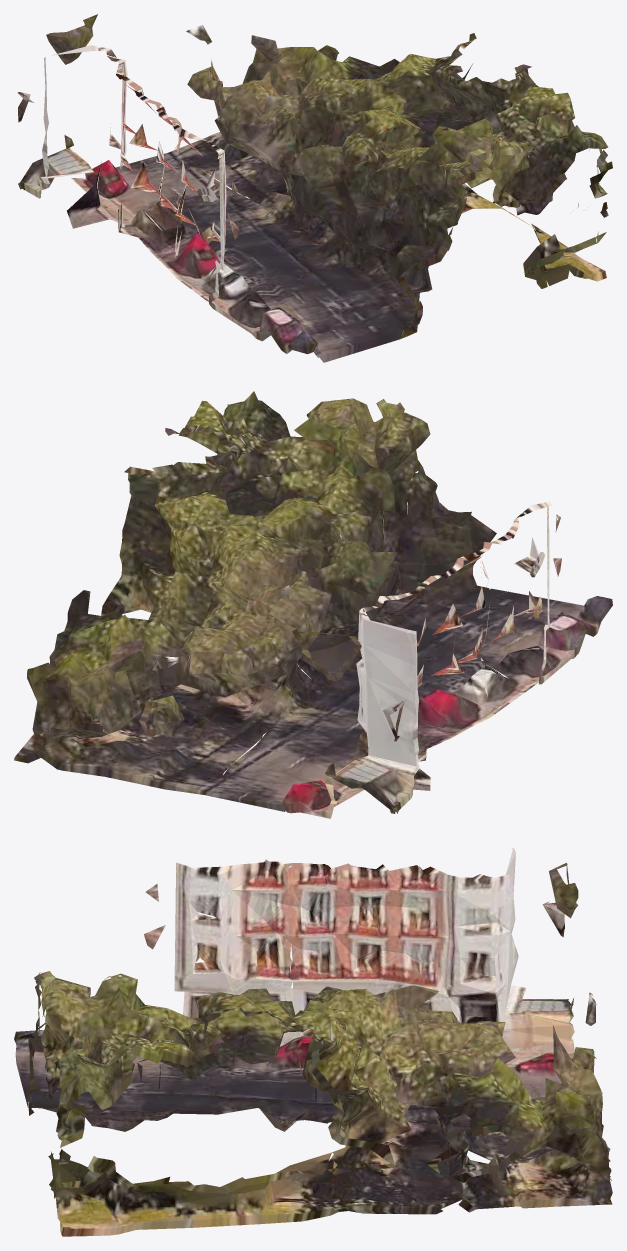
3 renders of one model, top to bottom at view 1: azimuth 30°, elevation 25°; view 2: azimuth 150°, elevation 25°; view 3: azimuth 270°, elevation 25°, orthographic. The views are drawn at different scales.
Visible parts, largest first — view 1: Mesh_0; view 2: Mesh_0; view 3: Mesh_0.
Boxes of the visible parts, x1=… form: Mesh_0: x1=17, y1=14, x2=612, y2=362; Mesh_0: x1=14, y1=391, x2=612, y2=818; Mesh_0: x1=14, y1=847, x2=612, y2=1236.
Bounding box in the file's own units: 34.09 × 14.62 × 41.22.
1 material, 1 textured.
